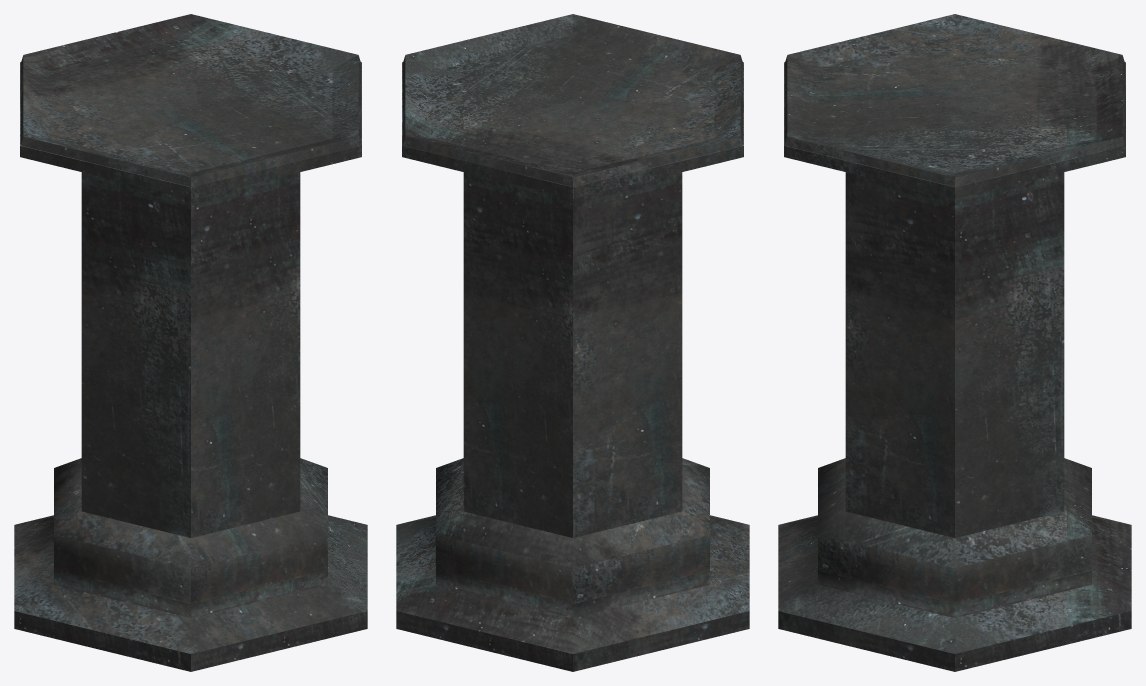
File: Pedistal.FBX
The picture shows the model from 3 angles, left to right: view 1: azimuth 30°, elevation 25°; view 2: azimuth 150°, elevation 25°; view 3: azimuth 270°, elevation 25°; orthographic projection.
Visible parts, largest first — view 1: Cylinder001; view 2: Cylinder001; view 3: Cylinder001.
Boxes of the visible parts, <box> form: Cylinder001: <box>14,14,367,671</box>; Cylinder001: <box>396,14,749,671</box>; Cylinder001: <box>778,14,1131,671</box>.
Bounding box in the file's own units: 43.26 × 57.34 × 37.46.
